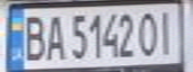1: (84, 10, 103, 60)
2: (118, 9, 139, 58)
4: (103, 9, 121, 58)
5: (66, 10, 87, 61)
A: (42, 11, 69, 62)
B: (21, 11, 48, 62)
I: (154, 7, 181, 56)
O: (136, 8, 160, 57)
